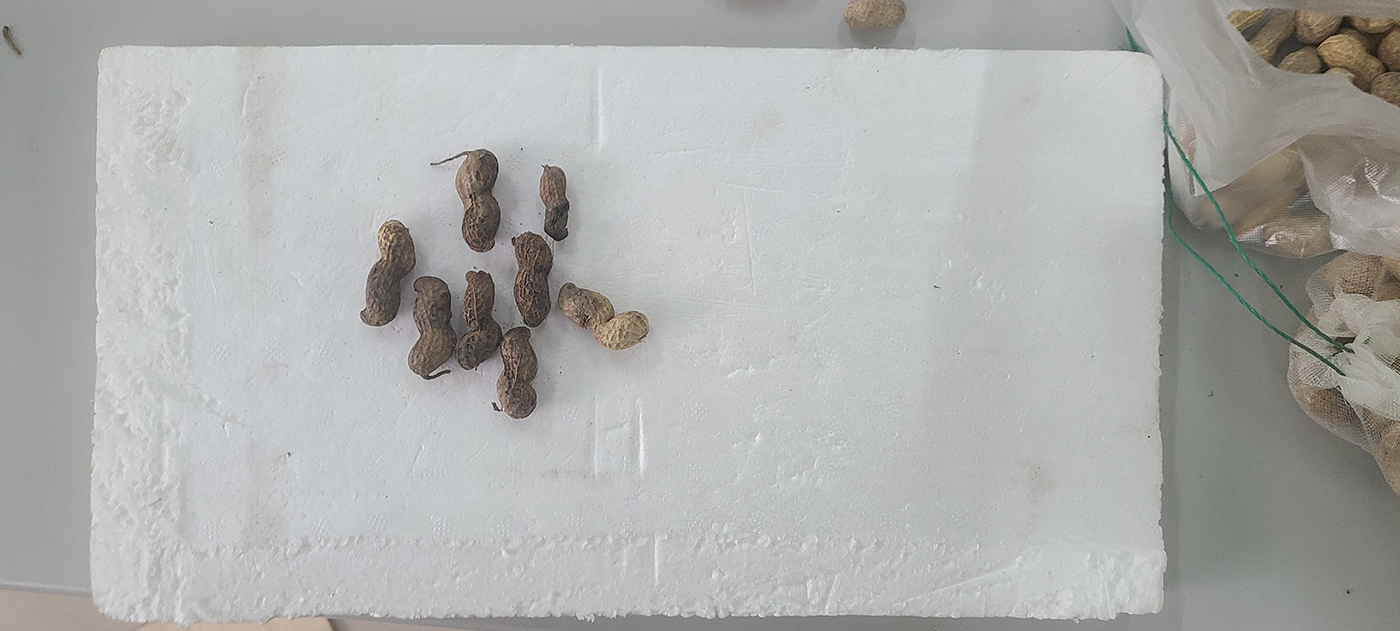l: (558, 282, 649, 350), (359, 219, 415, 327), (408, 274, 457, 378), (455, 149, 502, 252), (455, 270, 502, 370), (494, 326, 539, 418), (512, 233, 552, 327), (538, 166, 571, 241)
